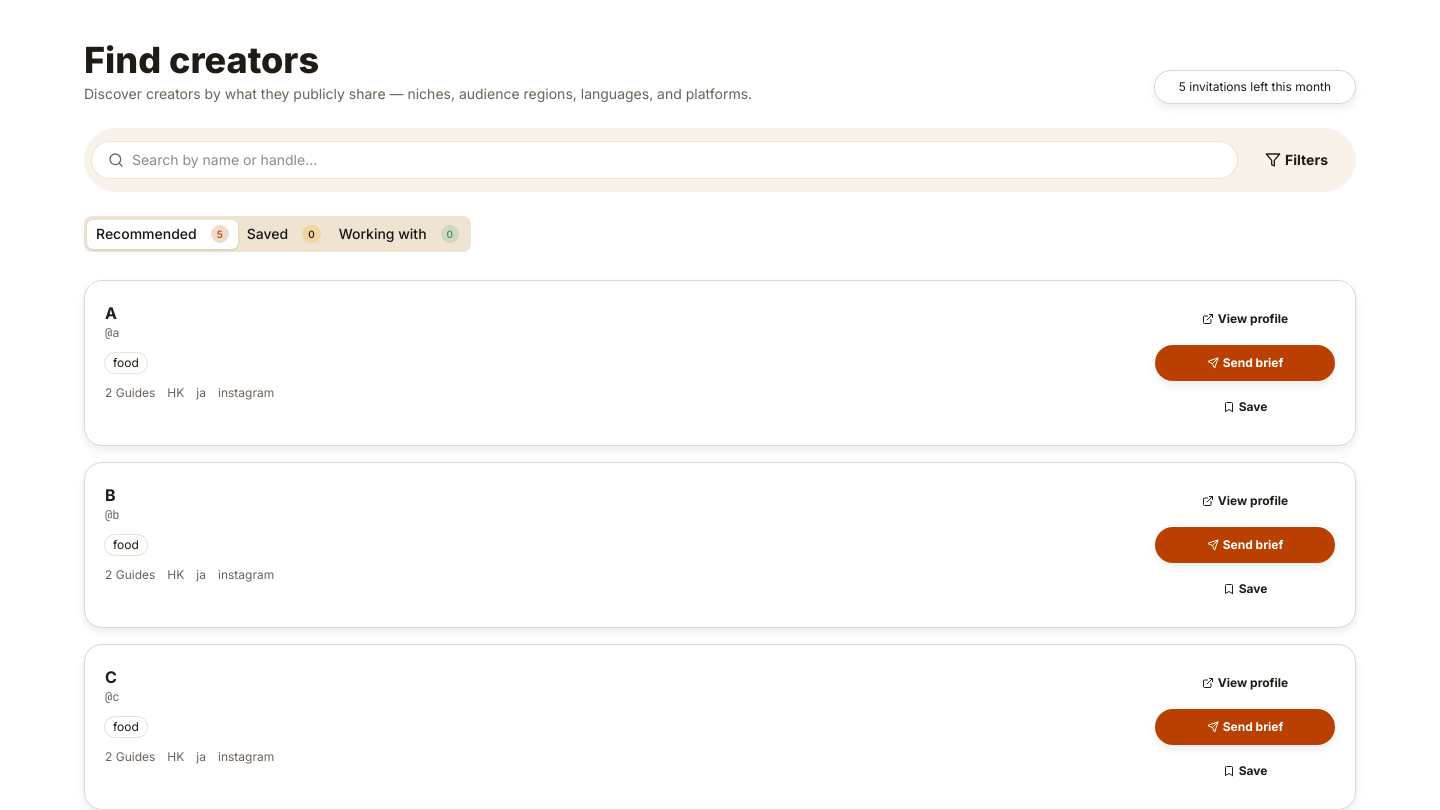
it: MerchantsCreatorsView › mission picker shows an empty state when there are no published missions
Click the 1st button "Send brief".
click(1245, 363)  # box [1155, 345, 1335, 381]
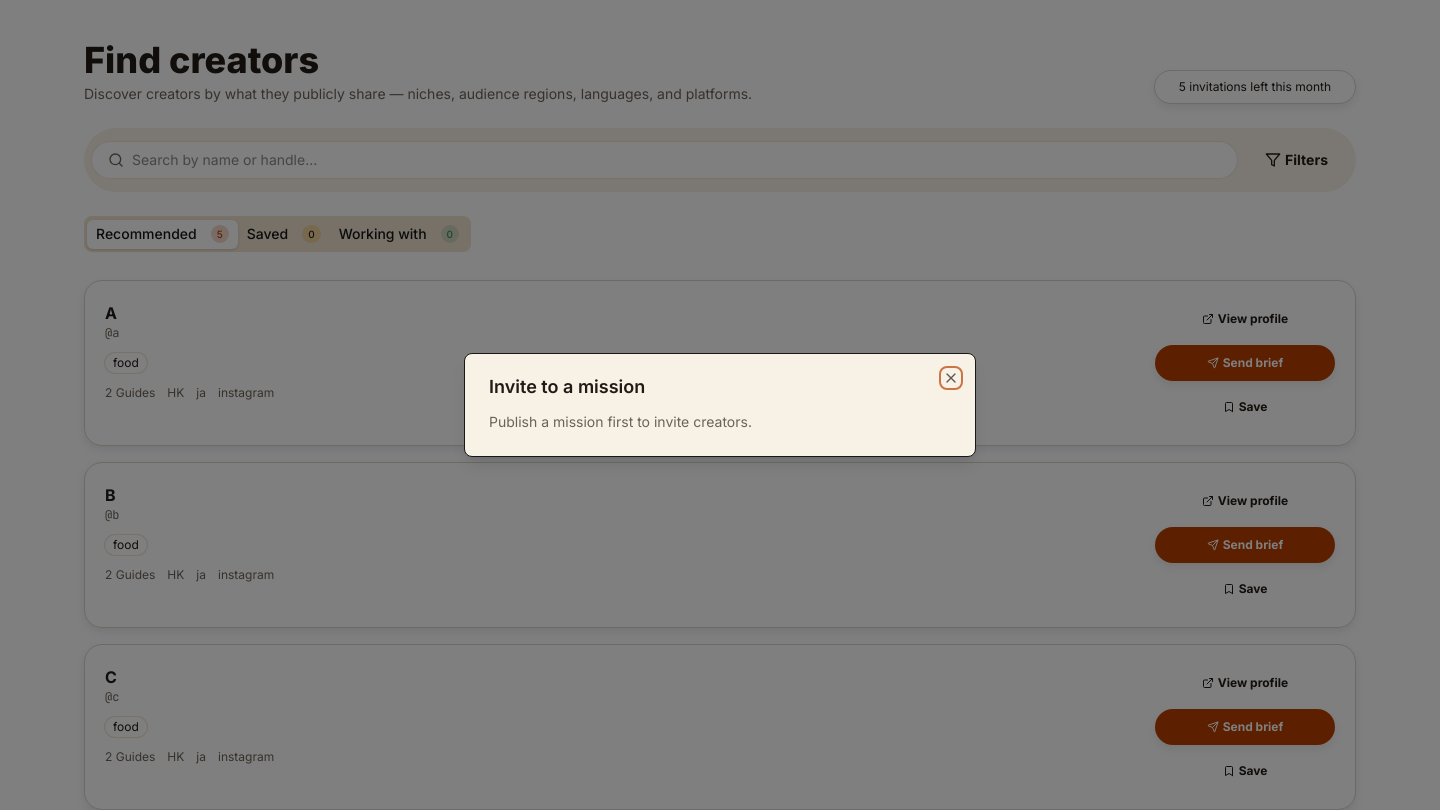
Check: the text "Publish a mission first to invite creators." is shown, box [489, 413, 752, 430]
